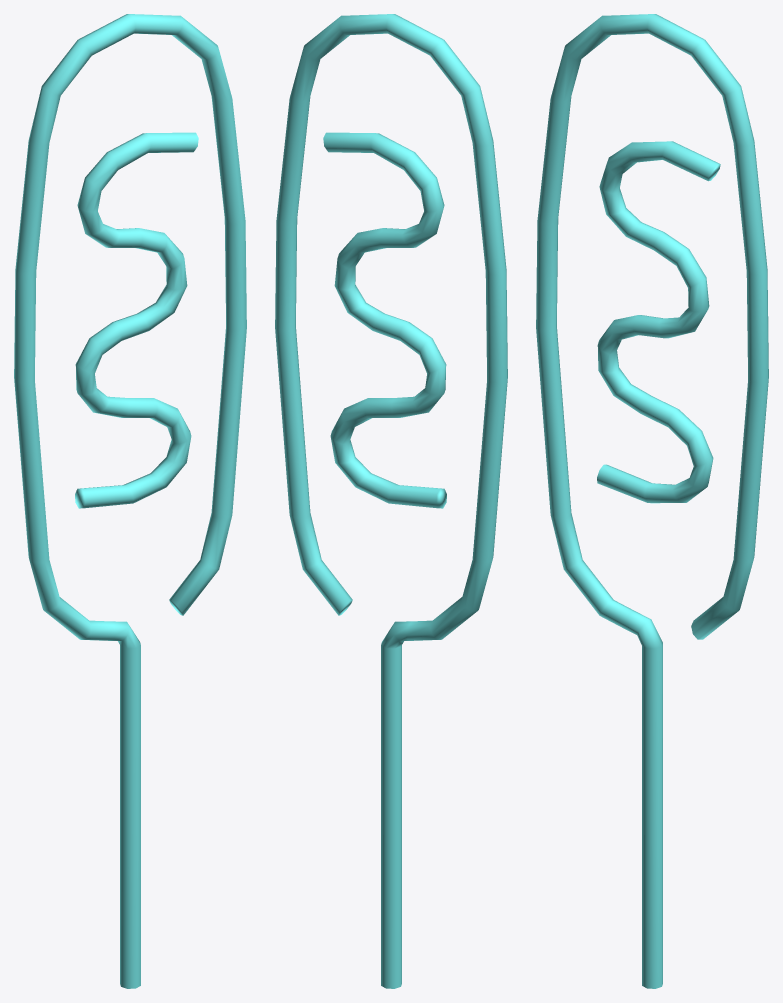
The model's file is CornDogNeon_01.fbx.
3 views of the same model, side by side, from view 1: azimuth 30°, elevation 25°; view 2: azimuth 150°, elevation 25°; view 3: azimuth 330°, elevation 25° (orthographic).
Visible parts, largest first — view 1: CornDogNeon_01; view 2: CornDogNeon_01; view 3: CornDogNeon_01.
Boxes of the visible parts, x1=… form: CornDogNeon_01: x1=14, y1=14, x2=246, y2=988; CornDogNeon_01: x1=275, y1=14, x2=507, y2=988; CornDogNeon_01: x1=536, y1=14, x2=768, y2=988.
Bounding box in the file's own units: 411 × 1653 × 34.01.
